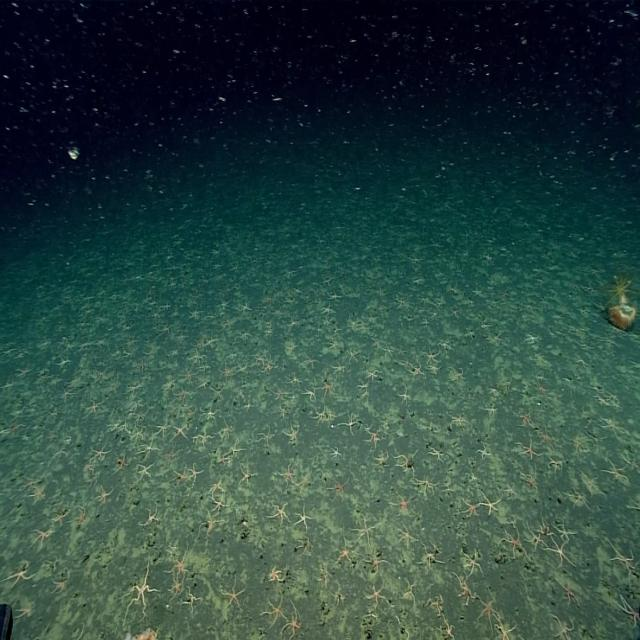brittle-stars: (115, 552, 161, 628), (468, 583, 502, 640), (342, 510, 382, 556), (354, 575, 393, 614), (254, 594, 289, 636), (216, 574, 249, 618), (611, 526, 634, 587), (500, 526, 529, 574), (541, 534, 574, 576), (0, 563, 39, 597), (559, 428, 594, 464), (410, 538, 444, 574), (617, 588, 640, 640), (602, 454, 629, 498), (361, 547, 394, 582), (564, 482, 592, 523), (578, 460, 606, 501), (265, 496, 294, 535), (391, 443, 420, 482), (167, 538, 192, 582), (448, 568, 473, 611), (47, 568, 75, 606), (389, 523, 421, 556), (476, 487, 502, 527), (9, 598, 36, 636), (327, 469, 350, 512), (282, 603, 308, 640), (332, 530, 352, 578), (522, 523, 547, 560), (545, 612, 578, 640), (556, 578, 583, 612), (531, 422, 559, 454), (600, 409, 626, 443), (222, 434, 250, 465), (510, 439, 542, 466), (132, 434, 161, 463), (212, 412, 238, 444), (30, 480, 54, 514), (28, 527, 56, 556), (387, 491, 415, 520), (456, 551, 486, 578), (567, 350, 597, 377), (399, 573, 419, 613), (181, 585, 202, 623), (338, 408, 360, 444), (552, 521, 580, 549), (457, 494, 480, 528), (262, 562, 288, 592), (276, 422, 302, 452), (421, 591, 447, 621), (108, 447, 131, 480), (195, 512, 222, 540), (253, 421, 277, 452), (292, 504, 314, 537), (314, 564, 336, 596), (275, 462, 298, 492), (512, 404, 535, 434), (166, 574, 186, 608), (494, 369, 515, 401), (168, 462, 190, 492), (518, 469, 540, 499), (424, 440, 446, 470), (176, 358, 196, 391), (189, 428, 216, 452), (310, 399, 328, 435), (140, 504, 162, 533), (156, 446, 180, 472), (124, 390, 151, 413), (471, 440, 493, 468), (81, 397, 105, 422), (86, 442, 112, 465), (237, 461, 259, 488), (325, 442, 347, 469), (400, 389, 421, 417), (206, 496, 230, 520), (414, 476, 436, 502), (526, 348, 552, 370), (312, 300, 338, 322), (299, 381, 318, 411), (67, 504, 88, 531), (294, 469, 314, 497), (478, 401, 498, 429), (520, 326, 543, 350), (151, 416, 170, 445), (621, 447, 640, 476), (405, 361, 427, 386), (623, 490, 640, 522), (51, 506, 69, 536), (187, 459, 205, 489), (293, 538, 315, 562), (324, 278, 346, 302), (439, 615, 460, 640), (184, 344, 205, 369), (448, 362, 466, 391), (200, 400, 220, 426), (299, 347, 319, 373), (208, 473, 225, 503), (490, 623, 520, 640), (94, 487, 116, 510), (122, 377, 146, 398), (135, 460, 155, 485), (266, 384, 292, 403), (168, 422, 190, 444), (535, 517, 558, 538), (446, 410, 467, 433), (341, 346, 364, 367), (314, 378, 334, 402), (501, 478, 518, 506), (545, 455, 566, 477), (332, 587, 349, 614), (372, 448, 391, 472), (437, 481, 458, 502), (50, 446, 70, 468), (201, 328, 221, 350), (18, 472, 36, 496), (365, 426, 380, 454), (353, 379, 374, 399), (418, 345, 442, 362), (171, 386, 196, 402), (328, 358, 348, 378), (281, 339, 301, 359), (246, 352, 266, 372), (217, 364, 237, 384), (207, 382, 227, 402), (197, 354, 215, 376), (214, 448, 230, 472), (130, 426, 148, 447), (422, 362, 443, 380), (105, 412, 122, 434), (70, 624, 93, 640), (241, 395, 257, 418), (236, 356, 250, 382), (87, 467, 102, 491), (323, 403, 338, 427), (359, 366, 379, 384), (532, 382, 552, 400), (194, 373, 210, 395), (133, 405, 149, 427), (380, 339, 396, 361), (181, 405, 201, 422), (260, 358, 277, 378), (394, 342, 411, 362), (608, 386, 623, 408), (594, 387, 607, 412), (239, 296, 252, 321), (274, 404, 292, 422), (532, 366, 552, 382), (284, 371, 302, 387), (506, 514, 522, 532), (46, 404, 60, 423), (360, 420, 376, 436), (467, 466, 478, 489), (163, 373, 175, 394), (60, 386, 74, 404), (327, 336, 341, 354), (396, 356, 412, 371), (224, 349, 240, 364), (82, 458, 94, 477), (120, 417, 131, 435), (487, 385, 499, 401)
